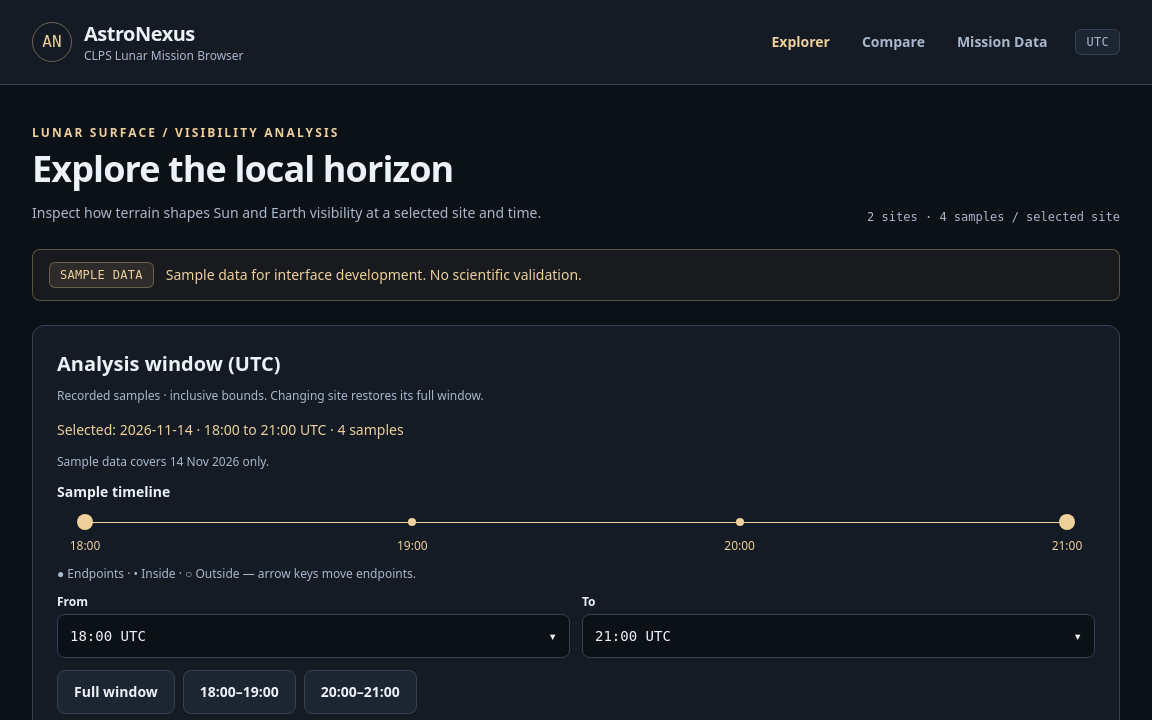
Test: opens complete-site metadata from navigation, explains missing provenance and restores focus
The image size is (1152, 720).
Click the button "Mission Data". click: (1002, 42)
box: x1=945 y1=20 x2=1059 y2=64
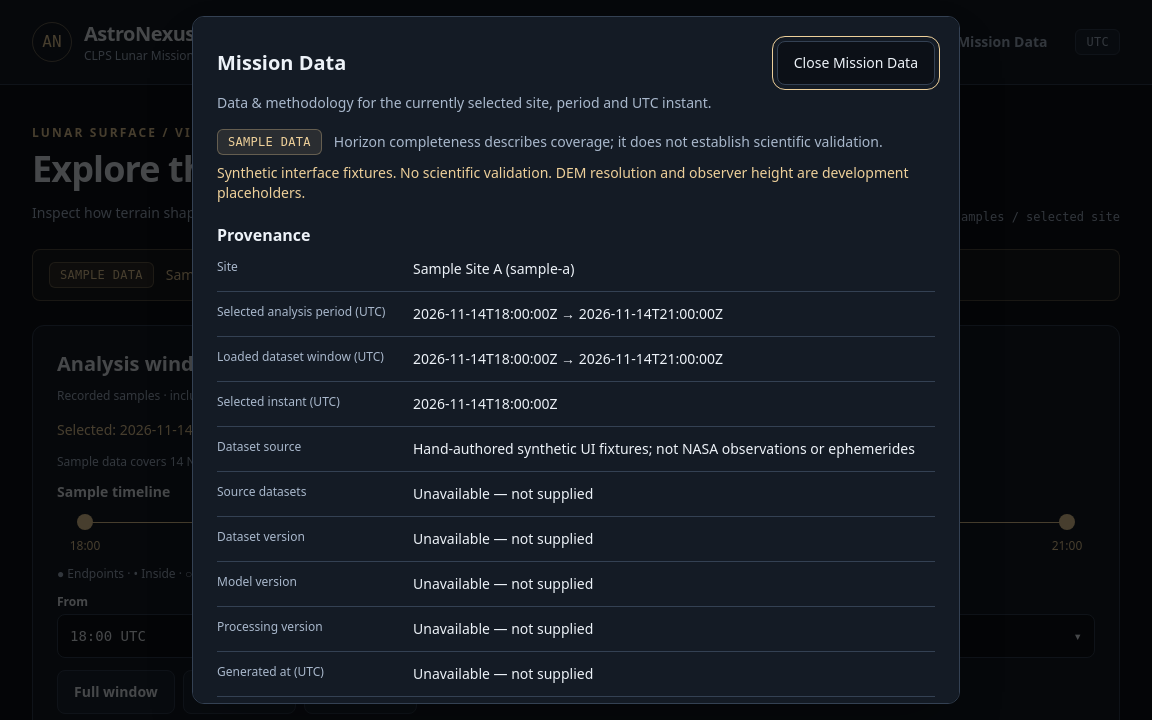
expect the text "Sample Site A (sample-a)" is shown: met, box x1=413 y1=259 x2=574 y2=278
expect the text "Hand-authored synthetic UI fixtures; not NASA observations or ephemerides" is shown: met, box x1=413 y1=439 x2=935 y2=459
expect the text "Synthetic interface fixtures. No scientific validation" is shown: met, box x1=217 y1=163 x2=909 y2=202
Click the button "Close Mission Data". click: (856, 63)
box: x1=777 y1=41 x2=935 y2=85
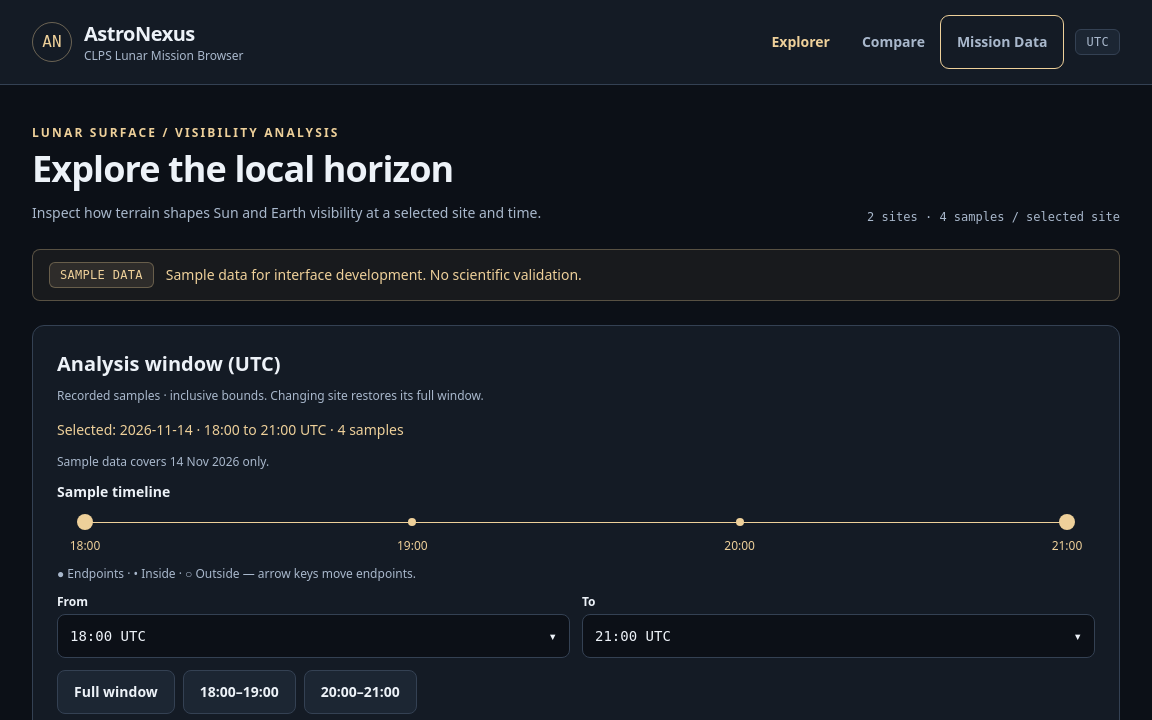
expect the dialog is gone: met
